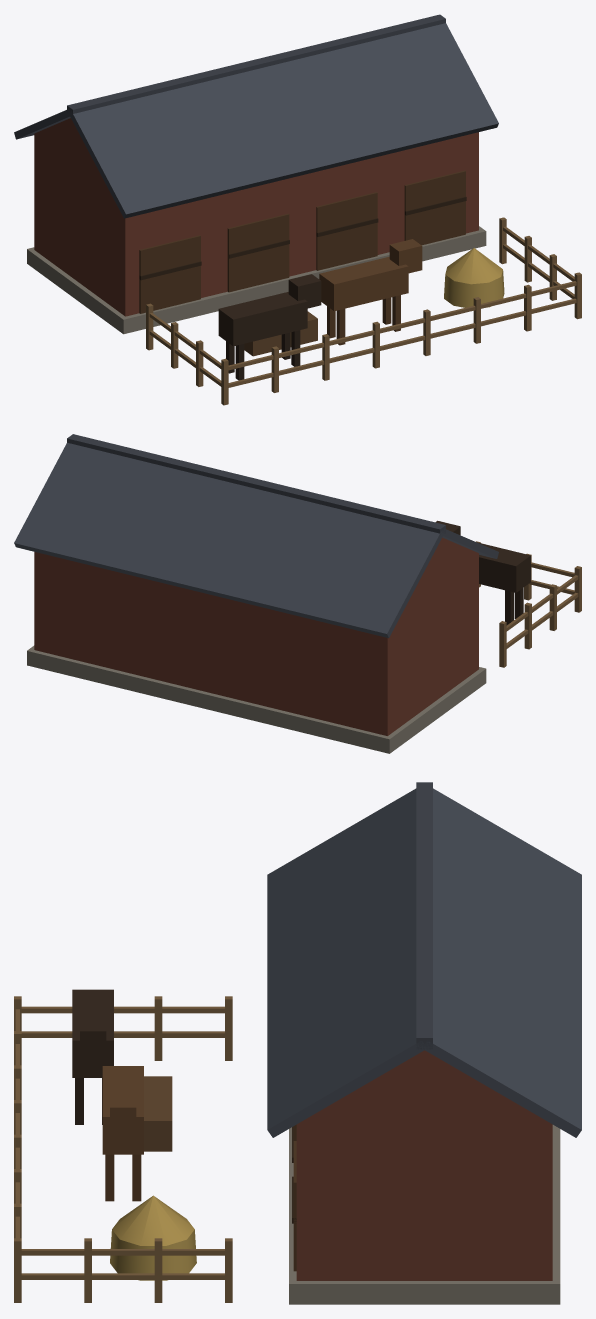
Rendered from procedural_stable@5.glb.
The picture shows the model from 3 angles, top to bottom: view 1: azimuth 30°, elevation 25°; view 2: azimuth 150°, elevation 25°; view 3: azimuth 270°, elevation 25°; orthographic projection. The views are drawn at different scales.
Parts seen in each view (by area): view 1: part_0; view 2: part_0; view 3: part_0.
Part boxes in pixels (x1,y1,x2,y2): part_0: (14,14,581,405); part_0: (14,434,581,753); part_0: (14,782,581,1304).
Bounding box in the file's own units: 8.02 × 3.96 × 7.54.
